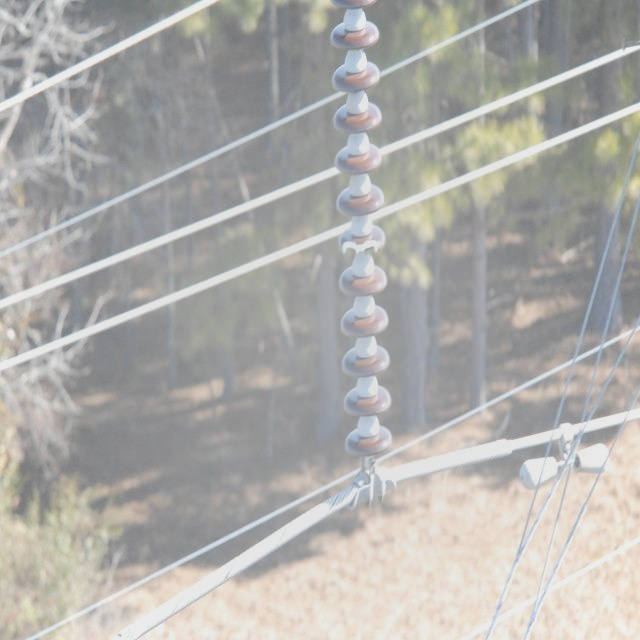broken: (338, 235, 380, 256)
insulator: (329, 0, 392, 458)
